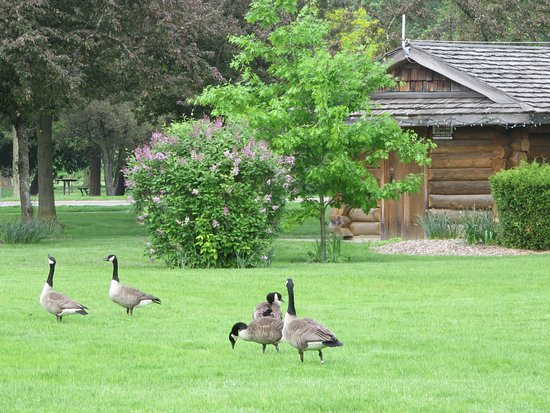goose: (283, 276, 344, 364), (101, 253, 163, 319), (38, 252, 90, 323), (228, 317, 284, 352), (252, 289, 284, 320)
